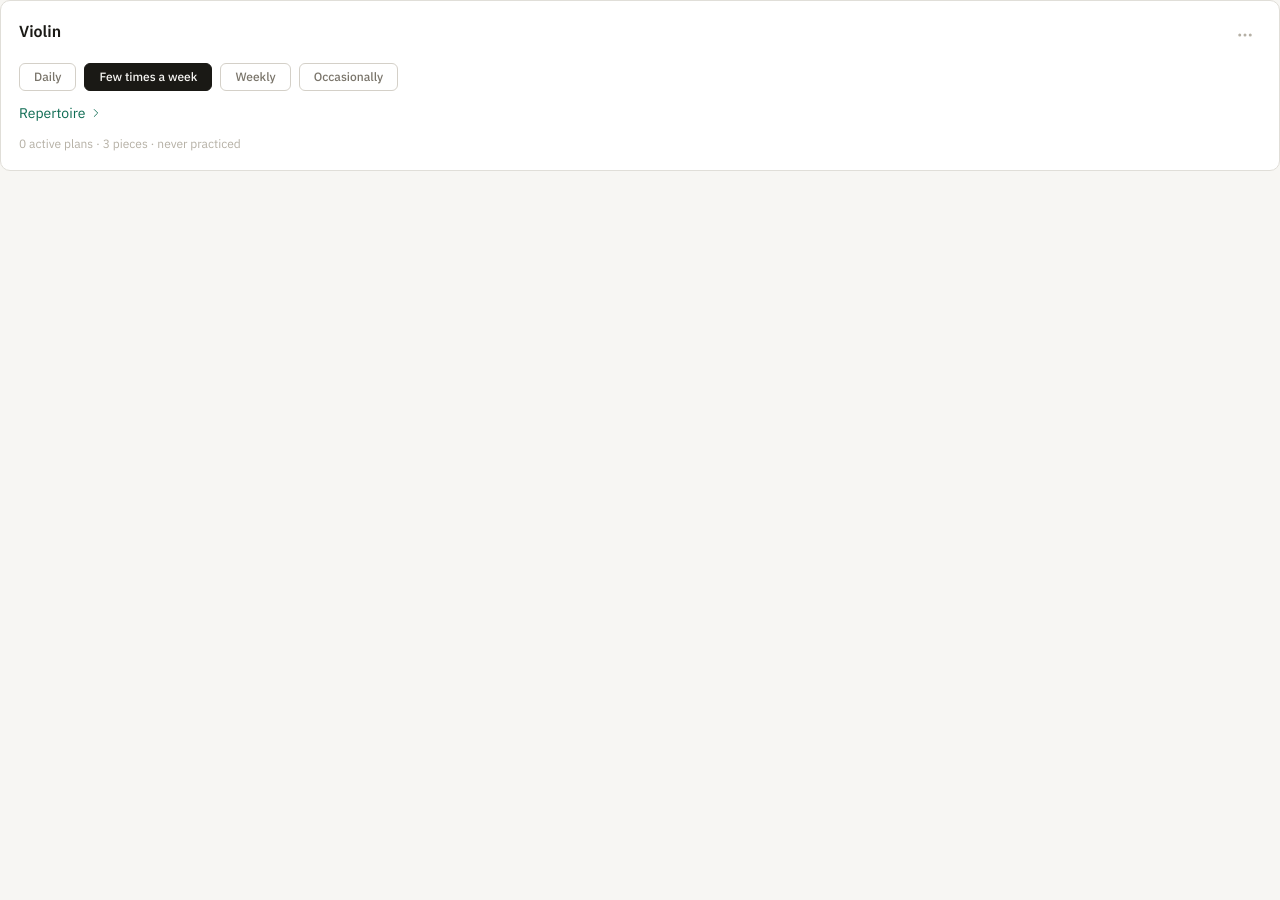
InstrumentCard › counts archived plans in the cascade, not just the active ones
What coordinates should you click on to do the following:
click the button named "Instrument actions"
I would click on:
 (1245, 35)
Its box is [1229,19,1261,51].
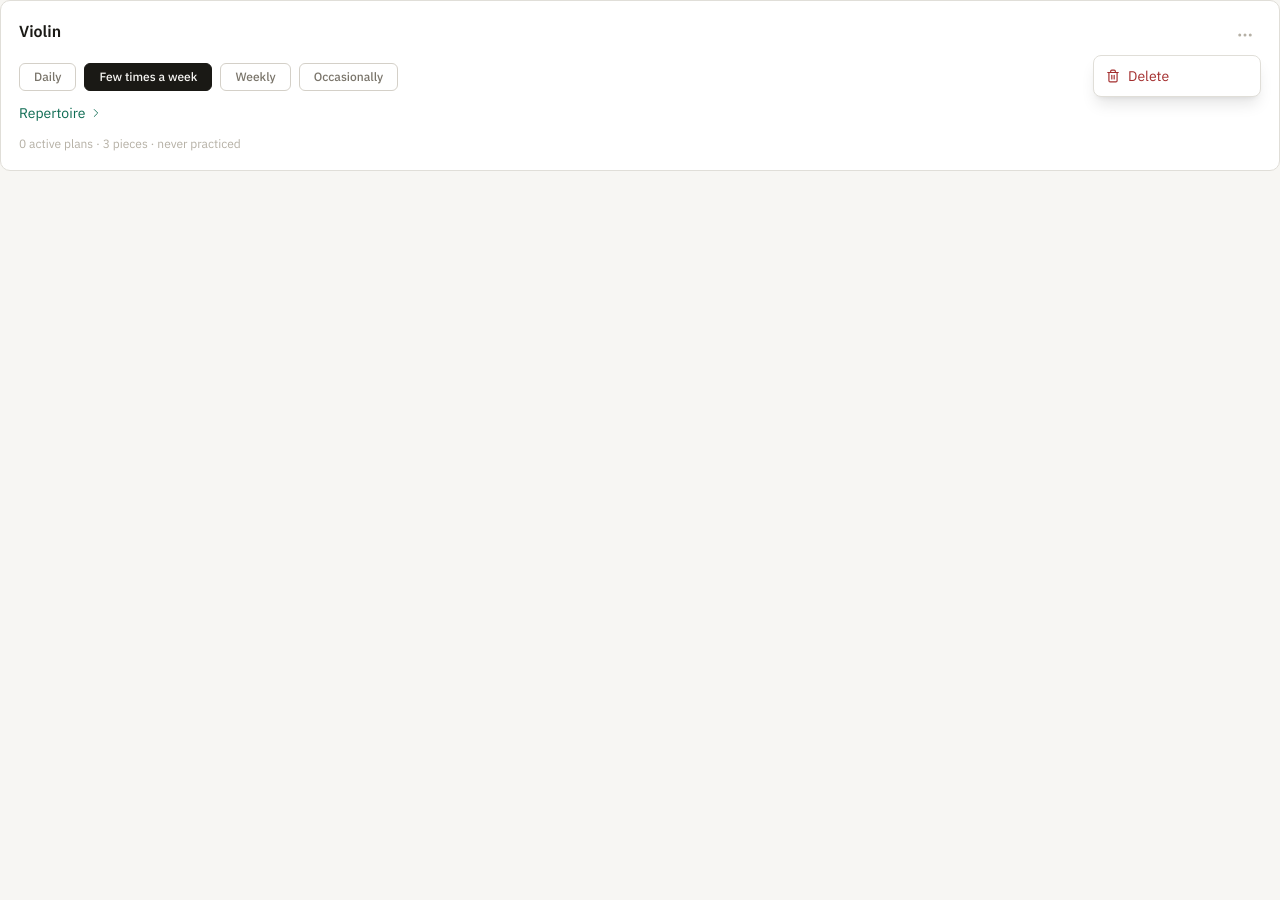
What coordinates should you click on to do the following:
click the menu item "Delete"
I would click on:
 (1138, 76)
Its box is [1106,67,1169,85].
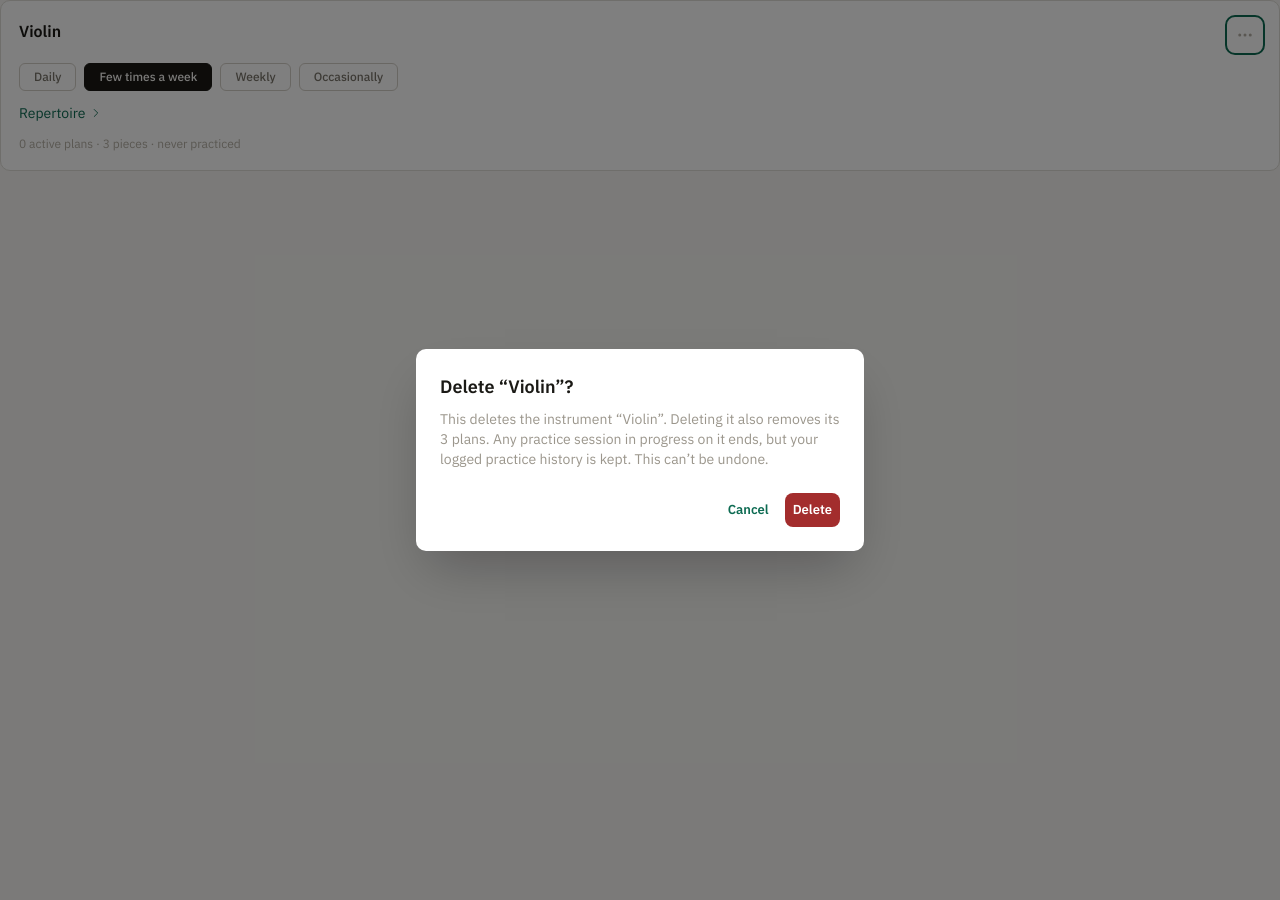
Expected: the dialog shows "Deleting it also removes its 3 plans.", [440,410,840,468]
